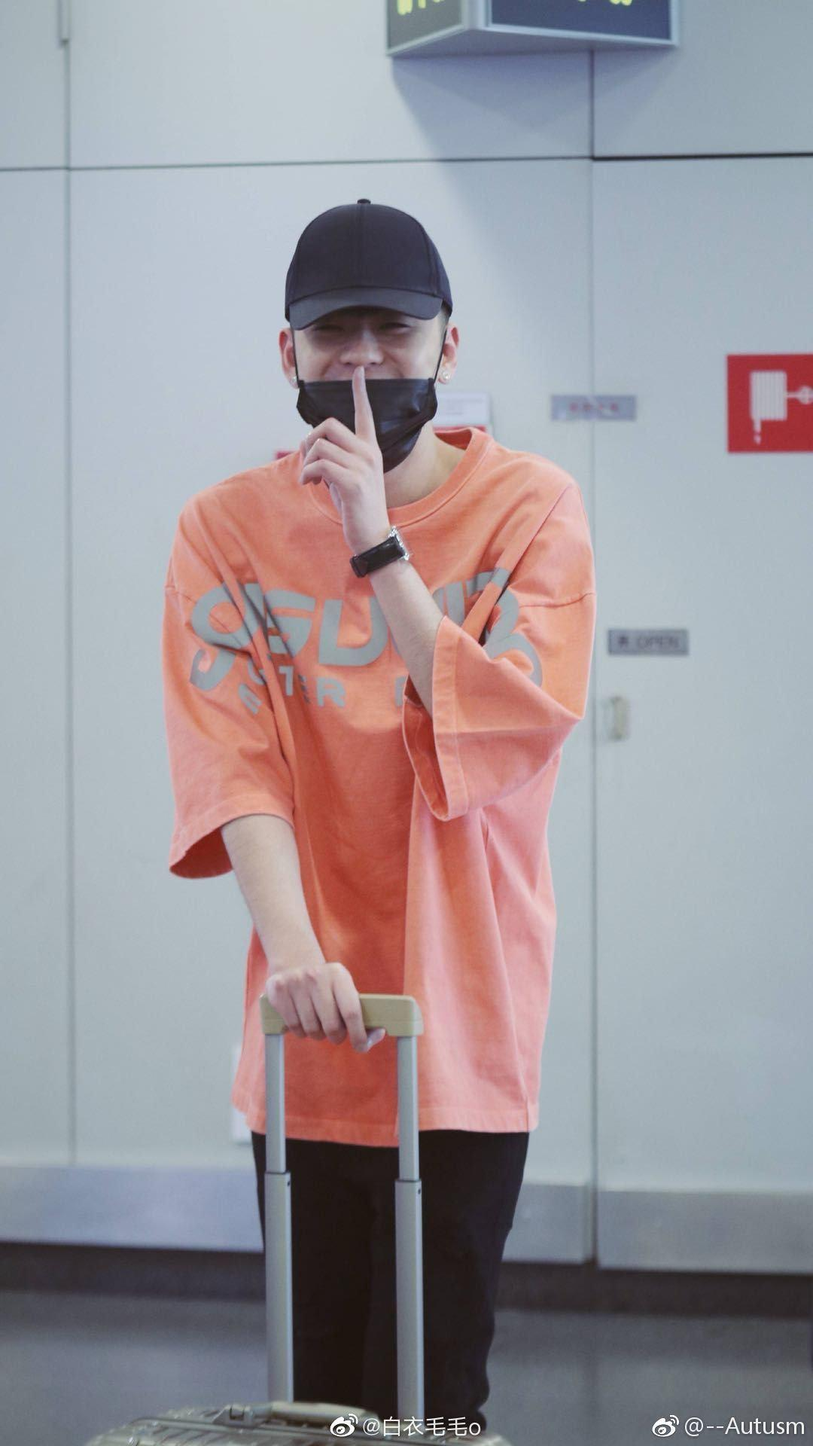WRONG: (296, 320, 440, 472)
